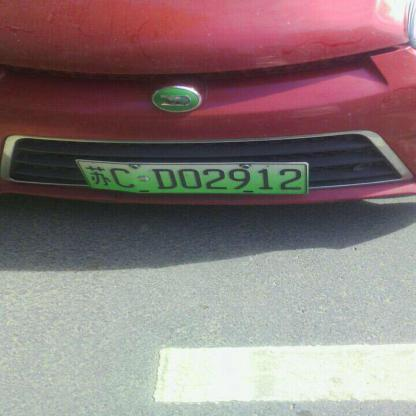lp: (74, 161, 308, 193)
